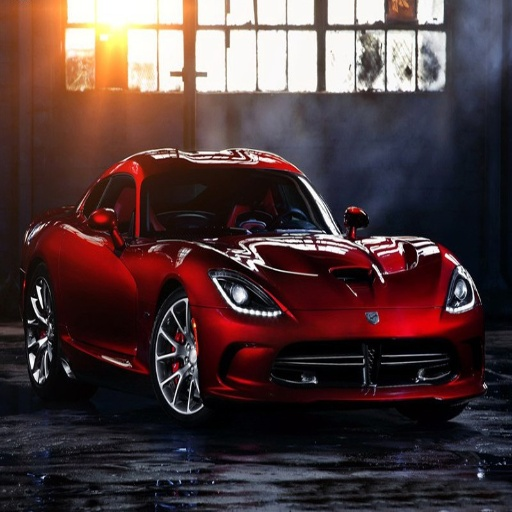back_bumper: (262, 326, 482, 400)
front_bumper: (196, 307, 348, 400)
front_glass: (237, 172, 331, 238)
front_left_door: (67, 172, 124, 259)
front_right_door: (68, 236, 139, 353)
hood: (232, 233, 455, 335)
trunk: (257, 261, 362, 339)
